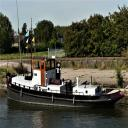tugboat: (7, 54, 126, 112)
